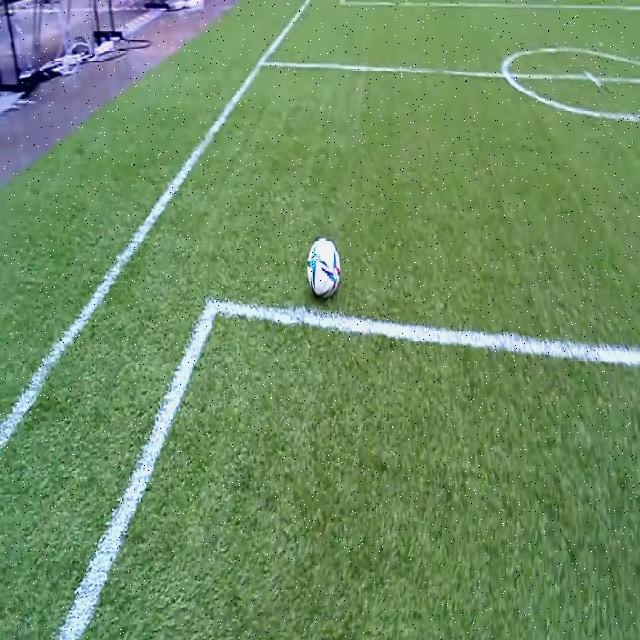ball: (307, 238, 340, 300)
